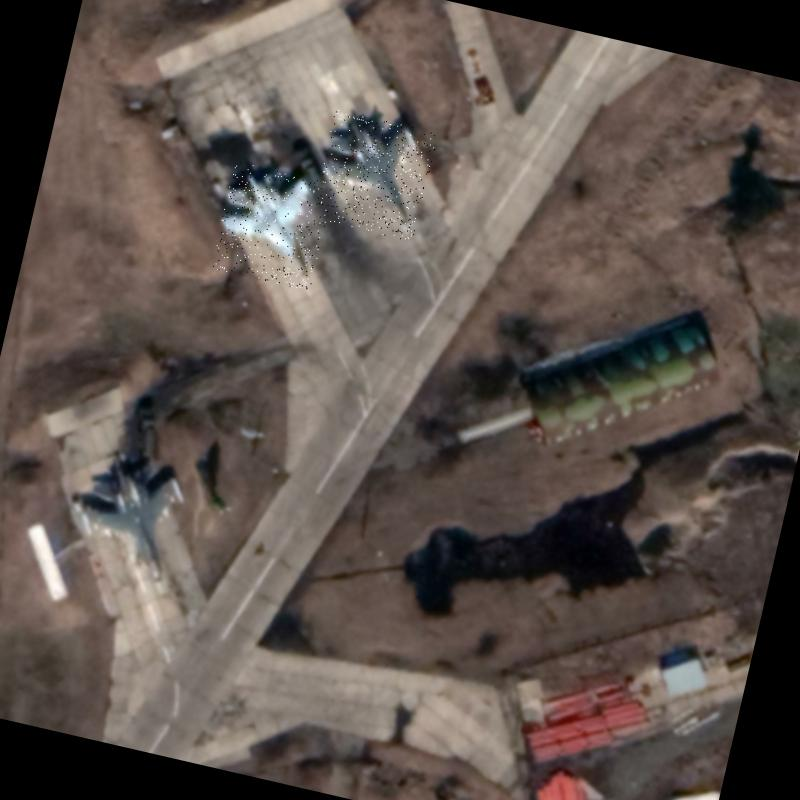A1: (63, 456, 196, 597), (310, 109, 438, 242), (210, 160, 334, 290)
